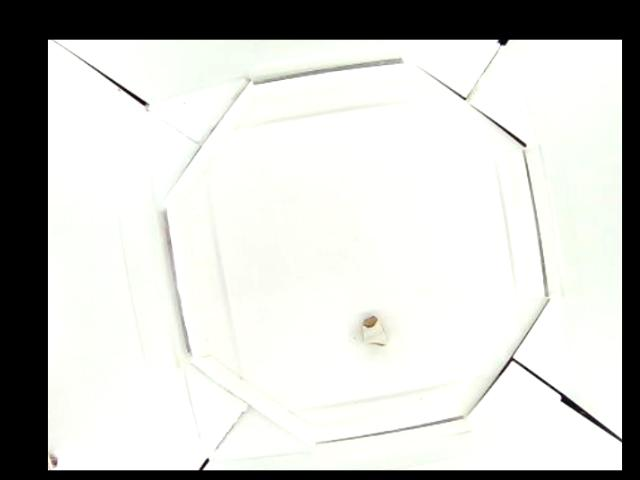China: (358, 315, 388, 344)
